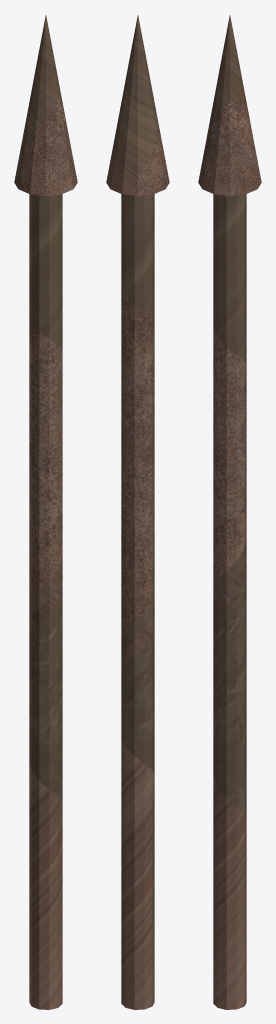
The model's file is Spear.fbx.
3 renders of one model, left to right at view 1: azimuth 30°, elevation 25°; view 2: azimuth 150°, elevation 25°; view 3: azimuth 330°, elevation 25°, orthographic.
Visible parts, largest first — view 1: pCylinder2; view 2: pCylinder2; view 3: pCylinder2.
Part boxes in pixels (x1,y1,x2,y2): pCylinder2: (14,15,77,1009); pCylinder2: (106,15,169,1009); pCylinder2: (198,15,261,1009).
Size of the model in its own units: 0.0771 by 1.33 by 0.0771.
